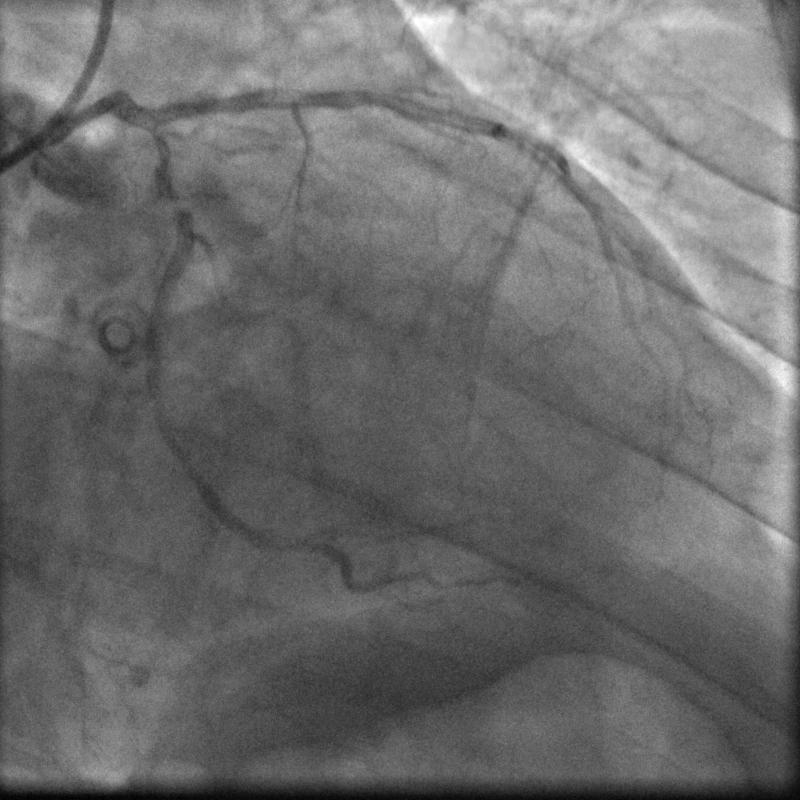Stenosis: (169, 195, 186, 213)
